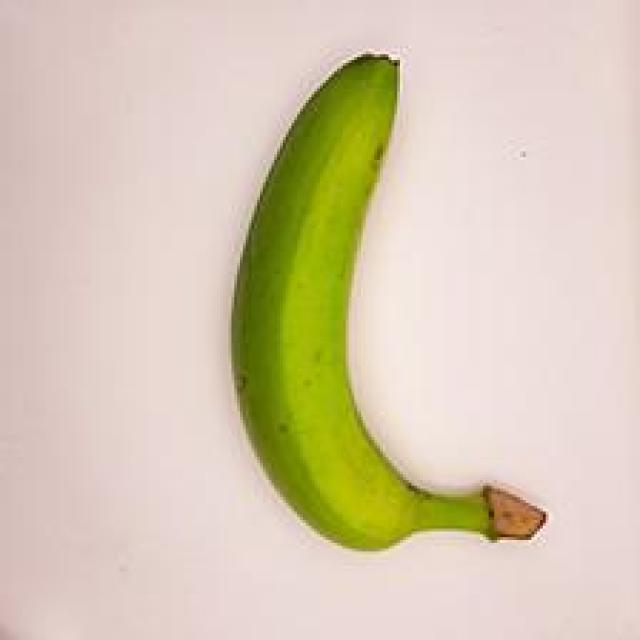Unripe: (210, 48, 558, 567)
